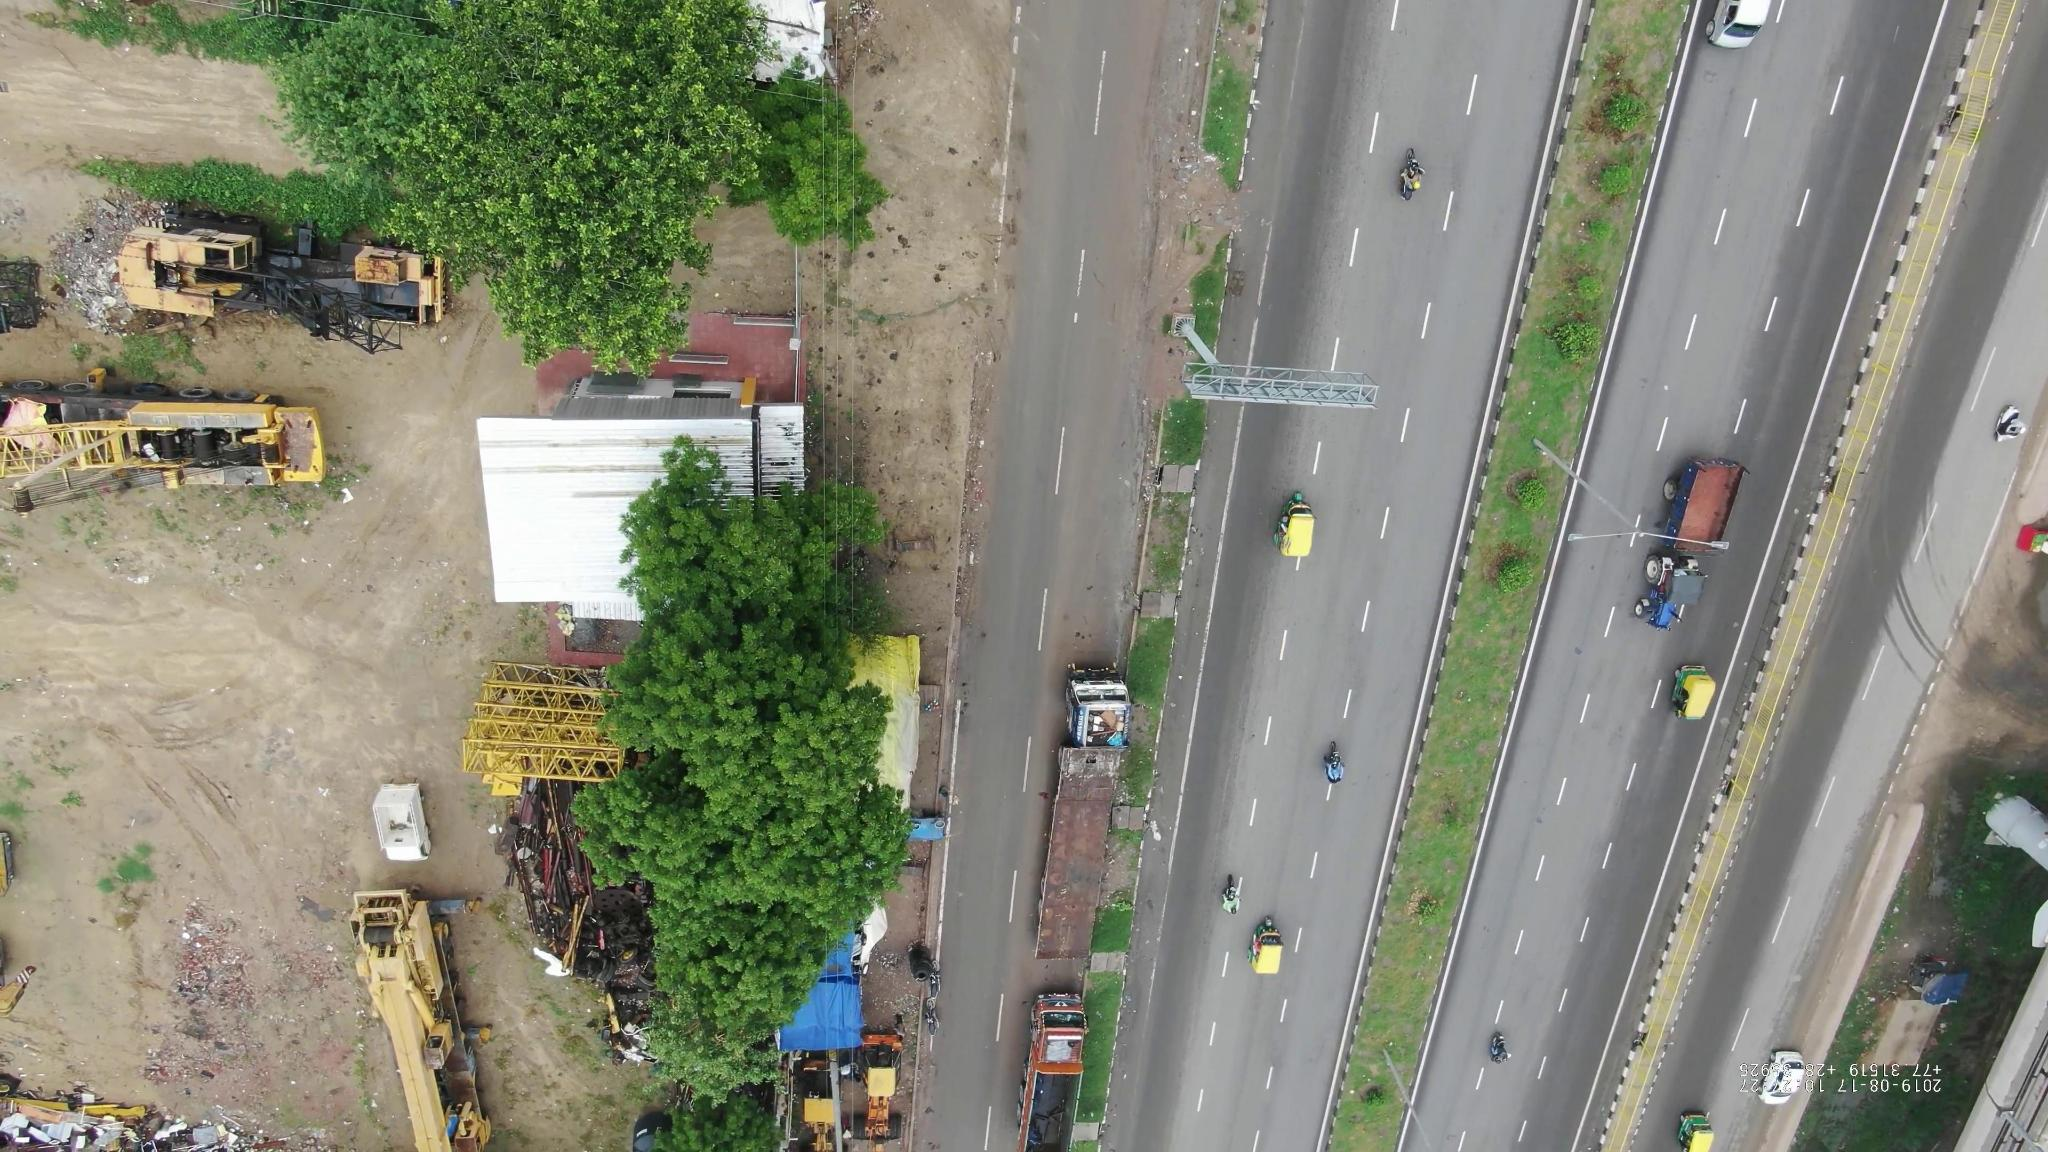Muddy_road: (1115, 52, 1217, 307)
